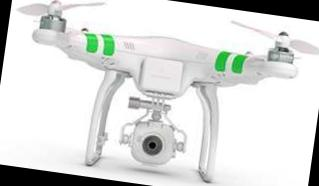drone: (6, 0, 319, 126)
